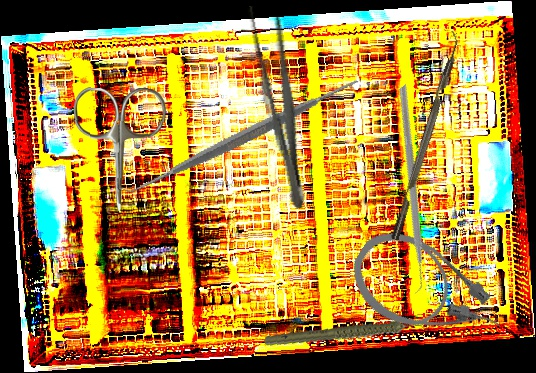Cannula: (337, 215, 516, 373)
Chopper: (303, 84, 510, 300), (381, 29, 465, 241)
Dressing Forceps: (243, 0, 317, 212)
Handpiece: (262, 301, 430, 369)
Iris Scissors: (71, 87, 167, 212)
Spatula Surgical: (116, 8, 371, 265)
